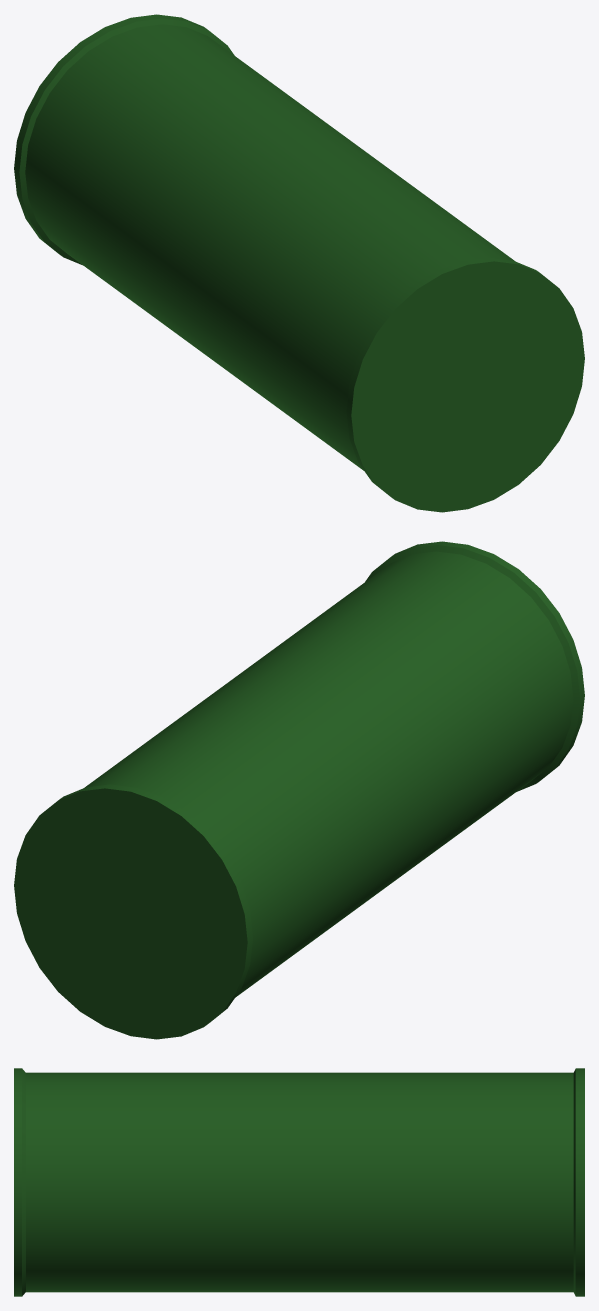
File: Pipe_Straight-Longer_16cm.fbx
The picture shows the model from 3 angles, top to bottom: view 1: azimuth 30°, elevation 25°; view 2: azimuth 150°, elevation 25°; view 3: azimuth 270°, elevation 25°; orthographic projection. The views are drawn at different scales.
Visible parts, largest first — view 1: Pipe_Straight-Longer_16cm; view 2: Pipe_Straight-Longer_16cm; view 3: Pipe_Straight-Longer_16cm.
Part boxes in pixels (x1,y1,x2,y2): Pipe_Straight-Longer_16cm: (14, 14, 584, 512); Pipe_Straight-Longer_16cm: (14, 541, 584, 1039); Pipe_Straight-Longer_16cm: (14, 1068, 584, 1296).
Size of the model in its own units: 16 by 16 by 40.
